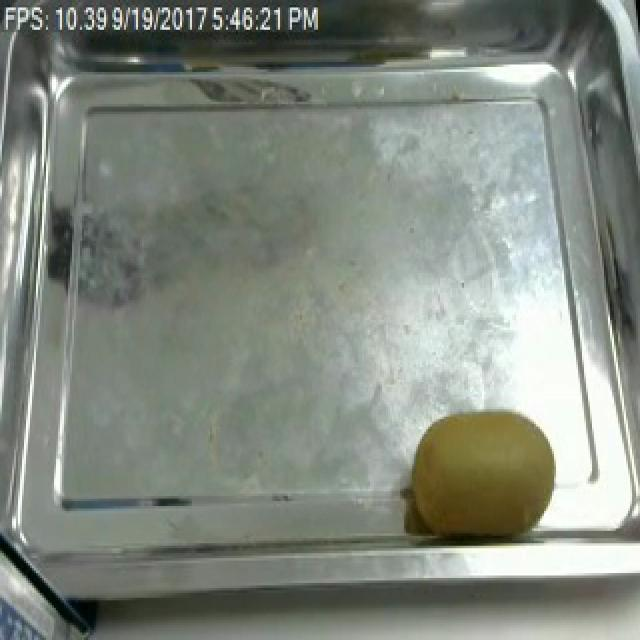Fruit: (402, 402, 566, 536)
